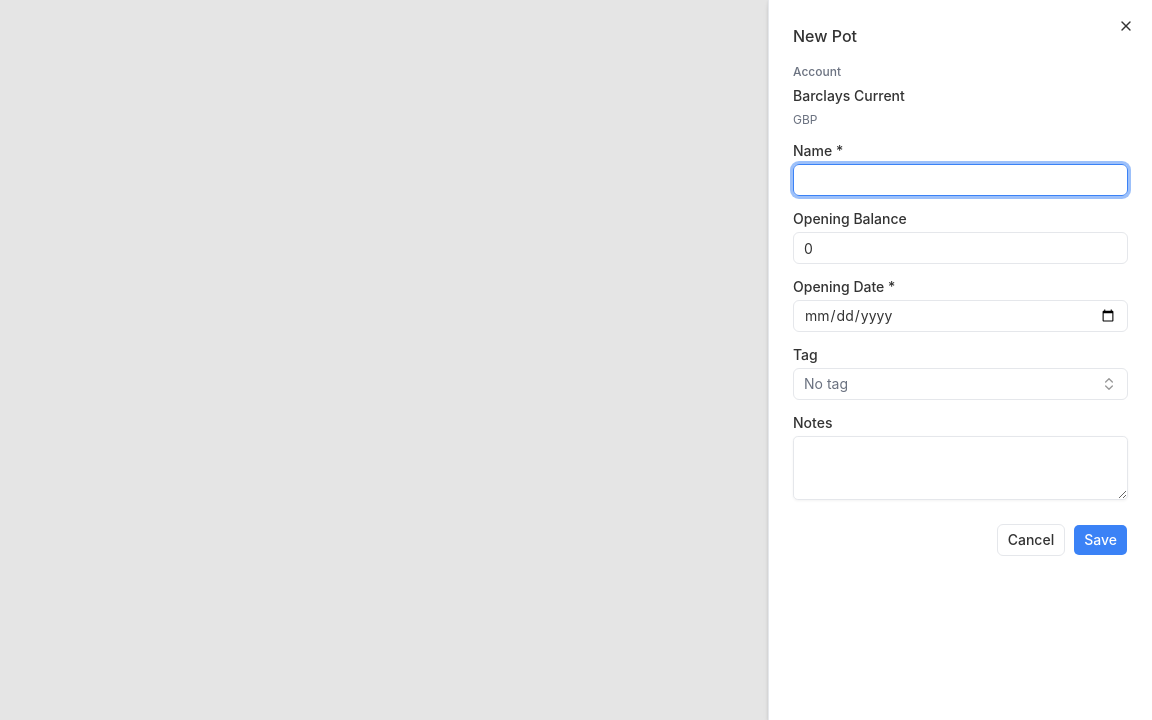
Scenario: PotFormSheet — create mode › shows error message when createPot throws
This screenshot has width=1152, height=720.
In the field labelled "Name *": (960, 180) [793,164,1128,196], type "Duplicate"
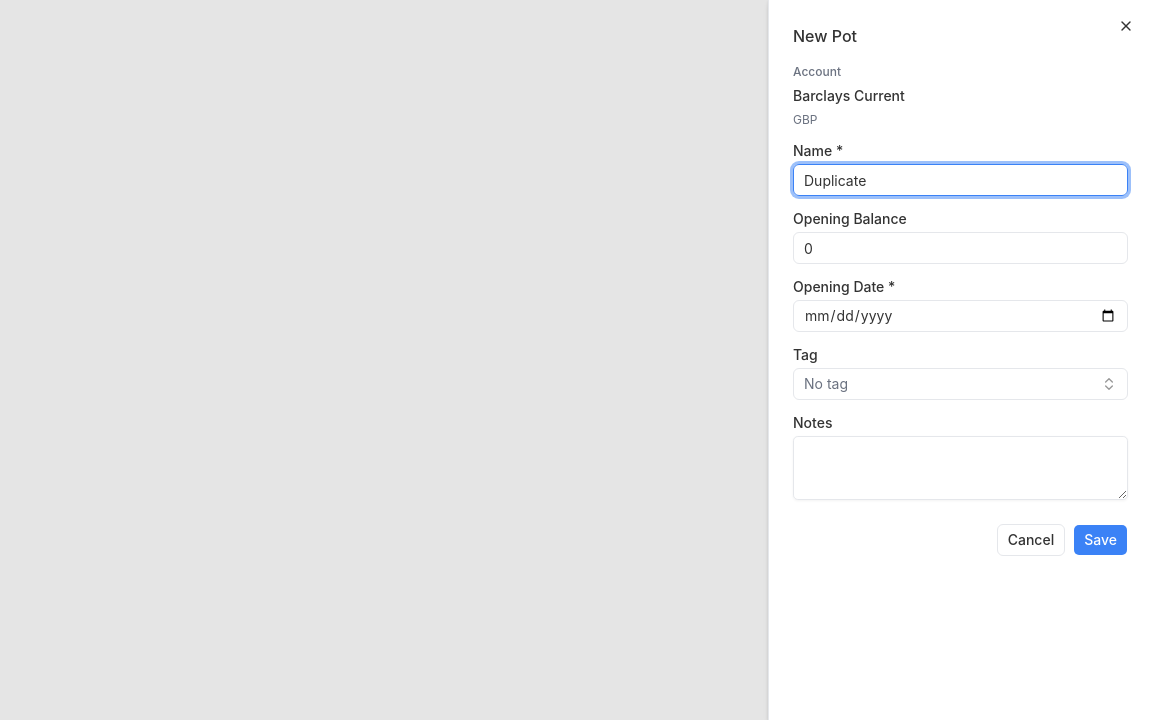
In the date field labelled "Opening Date *": (960, 316) [793,300,1128,332], type "2024-01-01"
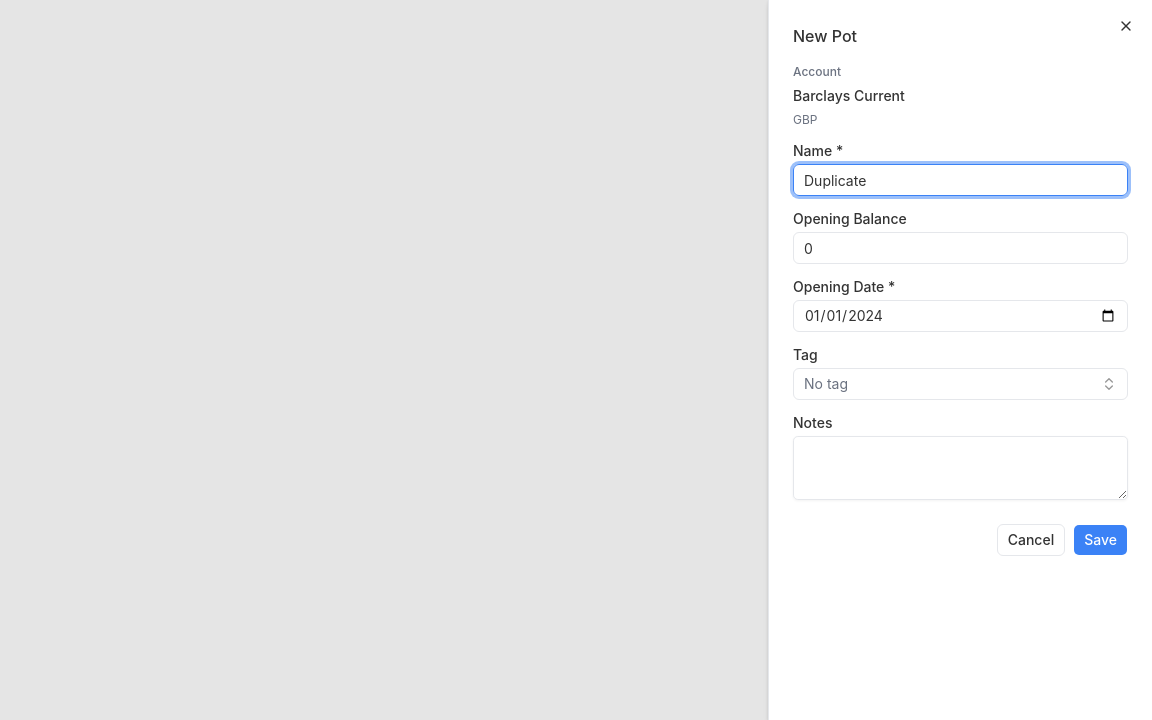
Click the button "Save": (1101, 540) [1073,524,1128,556]
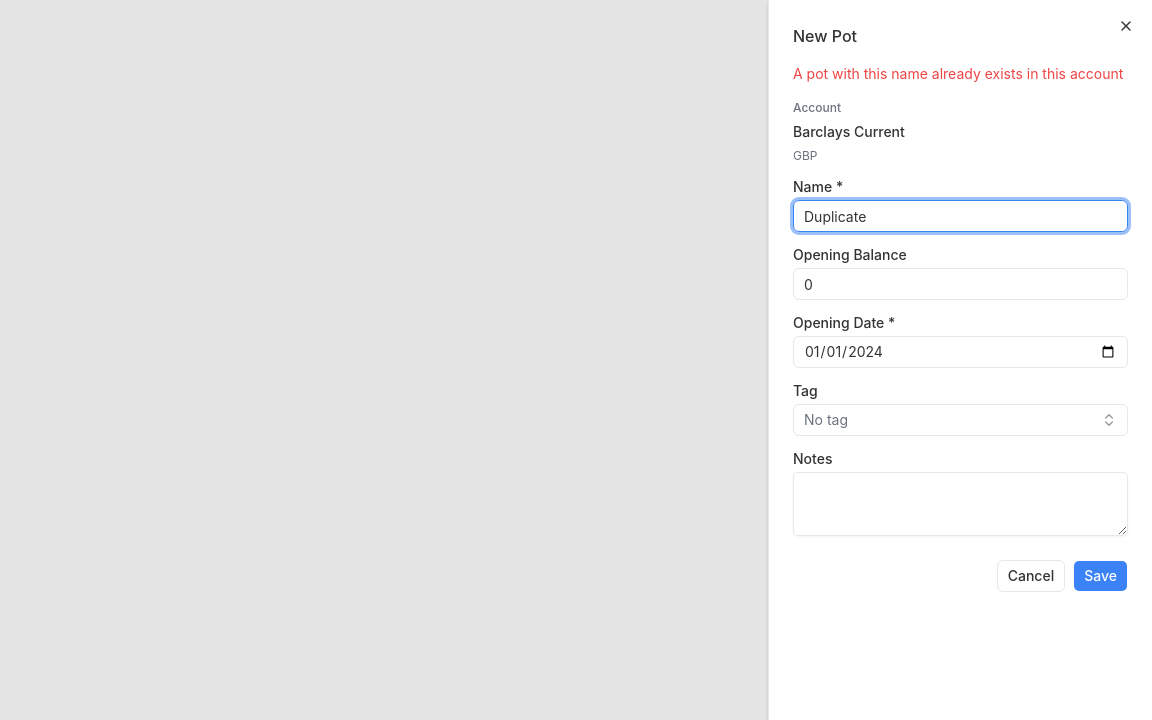
Expected: the text "A pot with this name already exists in this account" is shown, [793,64,1128,84]
